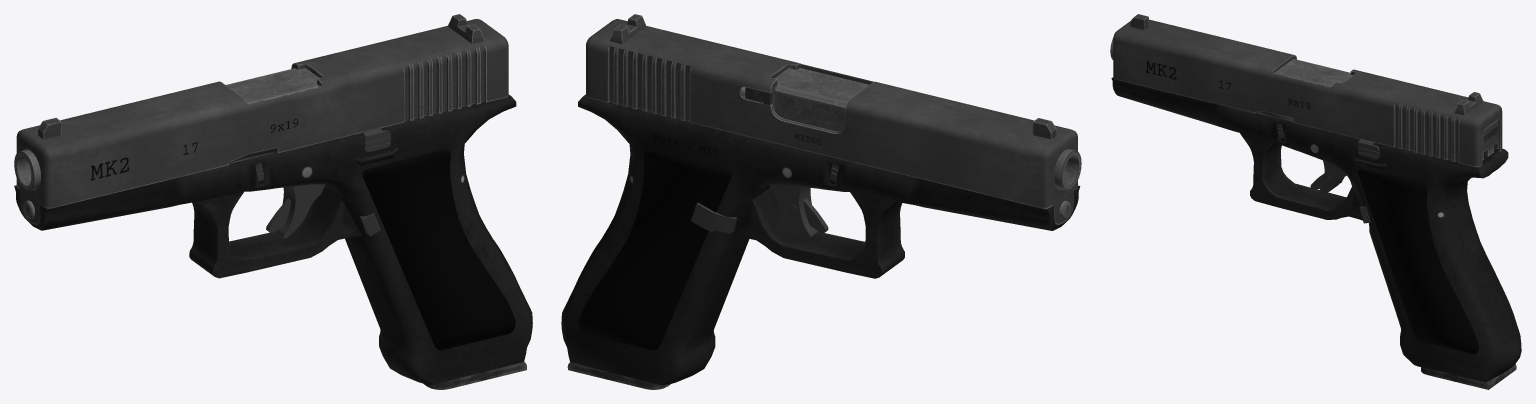
The model's file is glock17.glb.
3 renders of one model, left to right at view 1: azimuth 30°, elevation 25°; view 2: azimuth 150°, elevation 25°; view 3: azimuth 330°, elevation 25°, orthographic. The views are drawn at different scales.
Parts seen in each view (by area): view 1: Glock_parts_ORIGINAL_combined, Frame, Slide, Frame_Parts, Barrel, Trigger; view 2: Glock_parts_ORIGINAL_combined, Frame, Slide, Frame_Parts, Barrel; view 3: Glock_parts_ORIGINAL_combined, Frame, Slide, Frame_Parts, Barrel, Trigger.
Boxes of the visible parts, x1,y1,x2,y2 form: Glock_parts_ORIGINAL_combined: (14, 14, 508, 386); Frame: (14, 94, 532, 384); Slide: (16, 14, 508, 223); Frame_Parts: (255, 128, 526, 389); Barrel: (14, 68, 318, 190); Trigger: (266, 184, 324, 238); Glock_parts_ORIGINAL_combined: (567, 14, 1080, 389); Frame: (561, 94, 1080, 384); Slide: (586, 15, 1077, 224); Frame_Parts: (569, 150, 838, 389); Barrel: (773, 68, 1081, 190); Glock_parts_ORIGINAL_combined: (1111, 14, 1516, 386); Frame: (1111, 77, 1521, 381); Slide: (1113, 14, 1502, 166); Frame_Parts: (1276, 123, 1516, 389); Barrel: (1110, 40, 1352, 86); Trigger: (1310, 160, 1346, 197).
Size of the model in its own units: 2.4 by 1.58 by 0.334.
2 materials, 2 textured.
